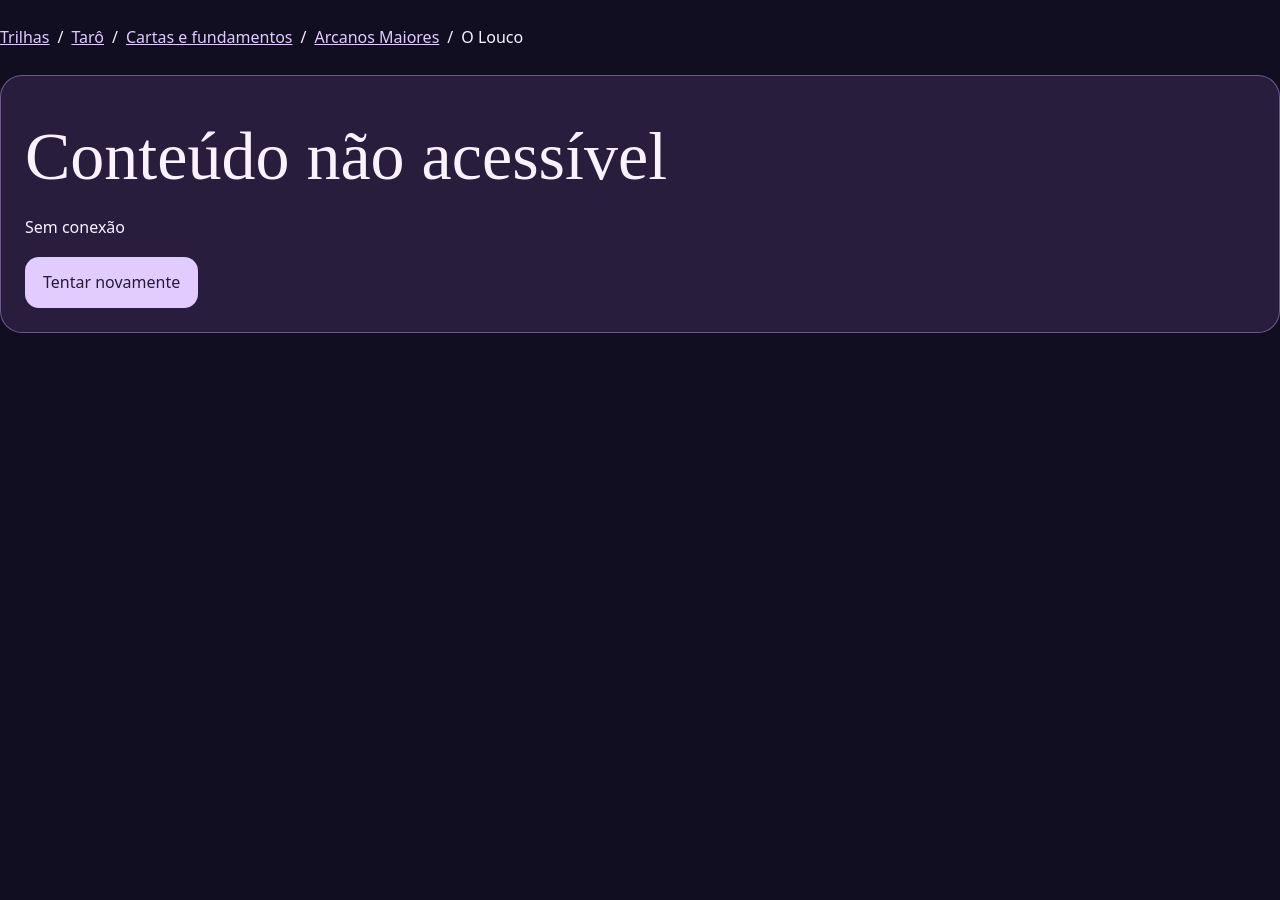
Test: Carregamento e contrato › mostra erro e permite retry
Expected: the message shows "Sem conexão", [25,216,125,238]
What coordinates should you click on to do the following:
click the button "Tentar novamente"
I would click on:
 (112, 282)
Its box is [25,257,198,308].
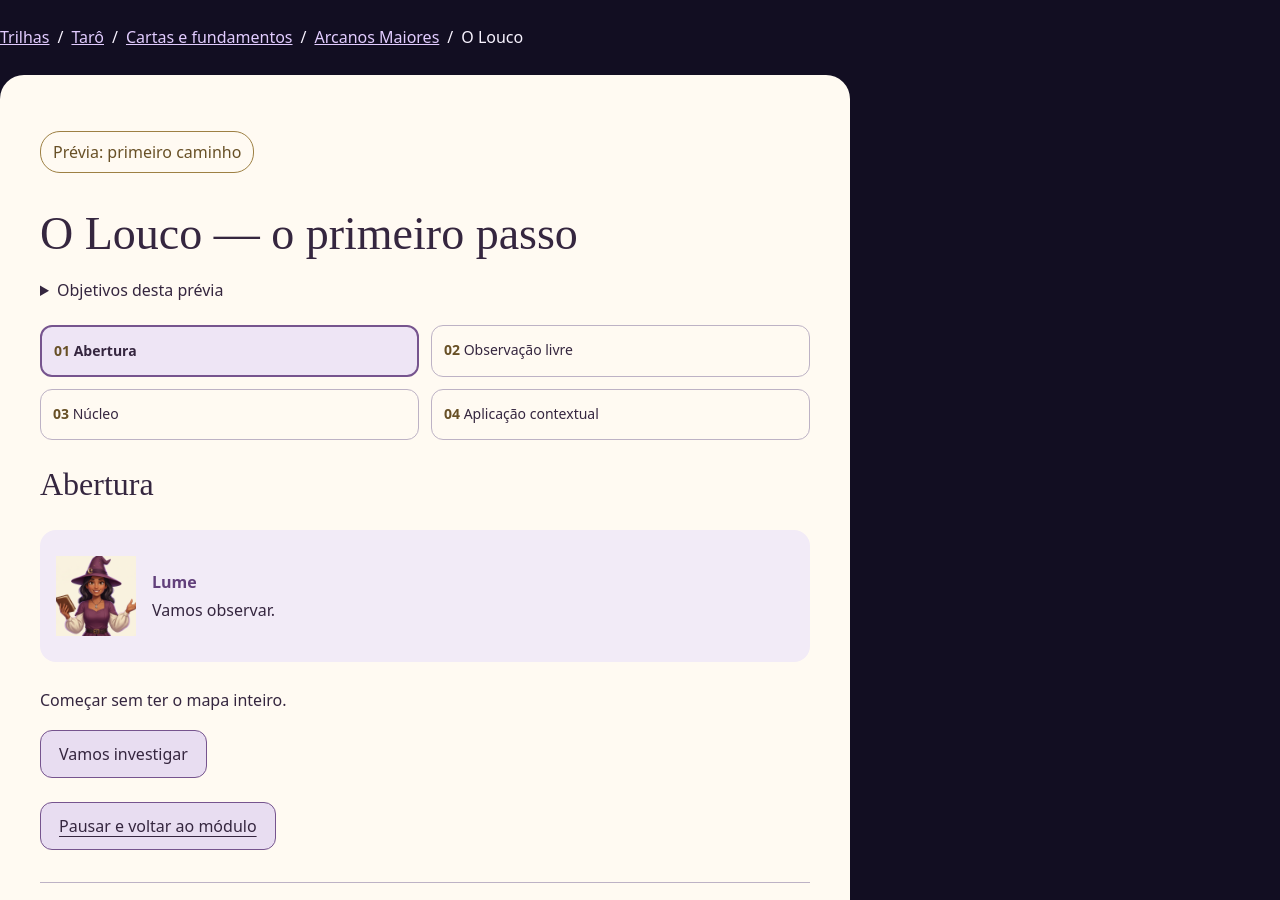
Now the heading "O Louco — o primeiro passo" is shown, box [40,208,578,259]
